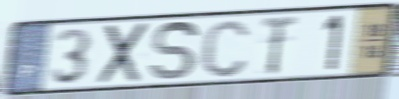1: (321, 13, 344, 73)
3: (50, 26, 95, 86)
C: (198, 16, 253, 80)
S: (148, 19, 201, 83)
T: (259, 13, 301, 78)
X: (95, 20, 152, 87)
